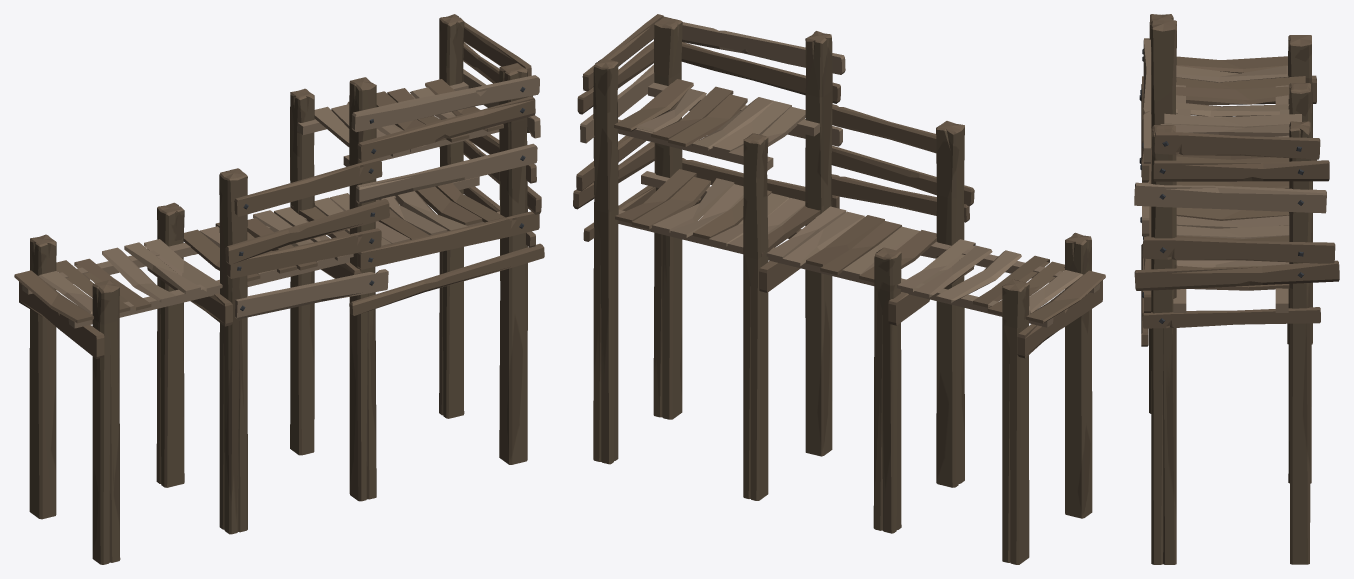
Rendered from env_ruin2.gltf.
3 views of the same model, side by side, from view 1: azimuth 30°, elevation 25°; view 2: azimuth 150°, elevation 25°; view 3: azimuth 270°, elevation 25° (orthographic). The views are drawn at different scales.
Visible parts, largest first — view 1: env_ruin2; view 2: env_ruin2; view 3: env_ruin2.
Boxes of the visible parts, bbox=[...] form: env_ruin2: bbox=[14, 14, 544, 564]; env_ruin2: bbox=[573, 14, 1105, 564]; env_ruin2: bbox=[1134, 14, 1339, 564].
Size of the model in its own units: 5.51 by 4.76 by 1.95.
Materials: 1 (1 with a texture image).
